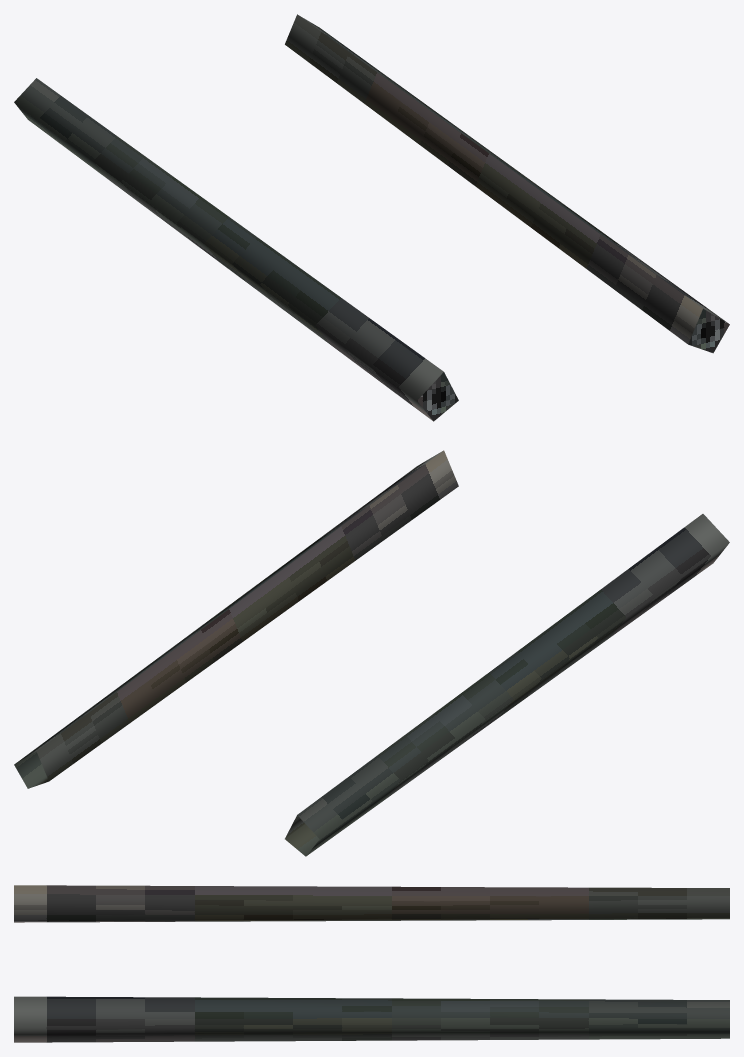
Rendered from bwing_weapon3_s01_l2.fbx.
3 renders of one model, top to bottom at view 1: azimuth 30°, elevation 25°; view 2: azimuth 150°, elevation 25°; view 3: azimuth 270°, elevation 25°, orthographic. The views are drawn at different scales.
Parts seen in each view (by area): view 1: mesh_node; view 2: mesh_node; view 3: mesh_node.
Part boxes in pixels (x1=…): mesh_node: x1=14, y1=14, x2=729, y2=421; mesh_node: x1=14, y1=450, x2=729, y2=856; mesh_node: x1=14, y1=885, x2=729, y2=1042.
Size of the model in its own units: 1.02 by 0.1471 by 2.29.
Materials: 1 (1 with a texture image).
